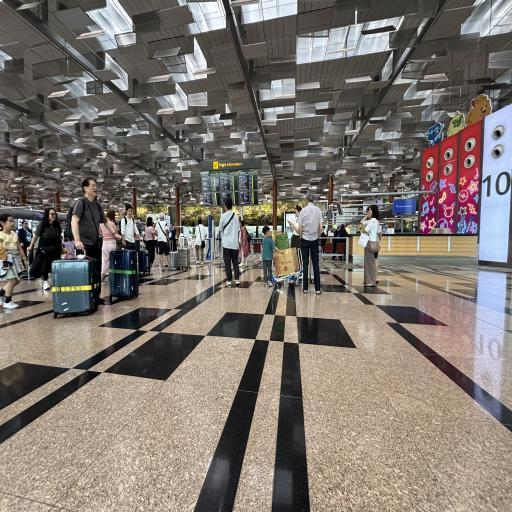person_with_luggage_right: (61, 171, 105, 321)
